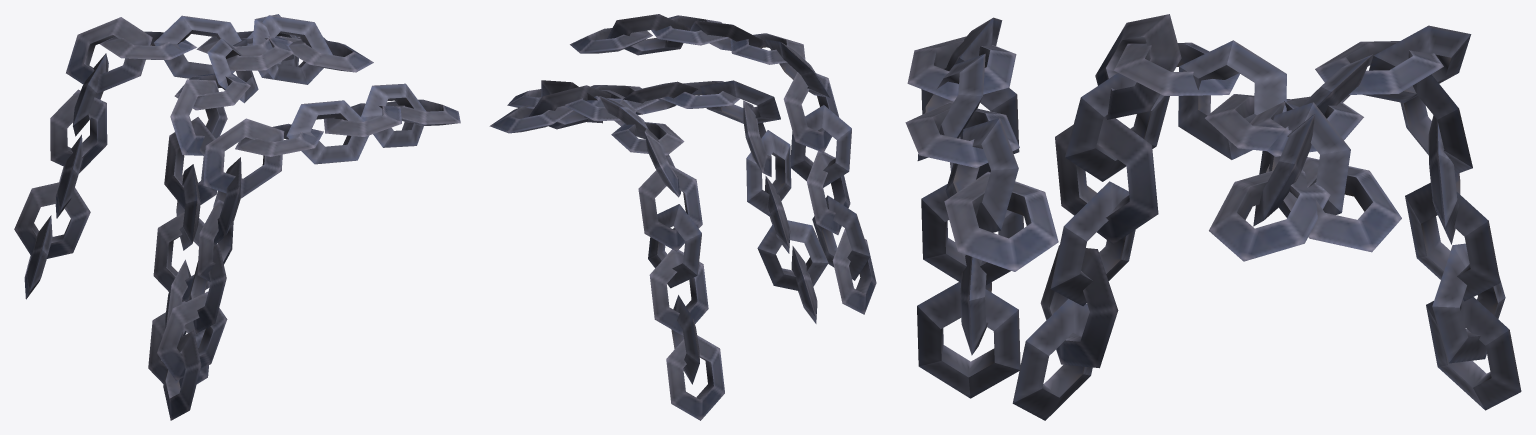
File: desert_dungeon_prop_17.FBX
3 renders of one model, left to right at view 1: azimuth 30°, elevation 25°; view 2: azimuth 150°, elevation 25°; view 3: azimuth 270°, elevation 25°, orthographic. The views are drawn at different scales.
Parts seen in each view (by area): view 1: Object034; view 2: Object034; view 3: Object034.
Boxes of the visible parts, x1,y1,x2,y2 form: Object034: [14, 14, 460, 420]; Object034: [489, 14, 876, 420]; Object034: [905, 14, 1521, 420].
Bounding box in the file's own units: 34.97 × 37.19 × 30.06.
